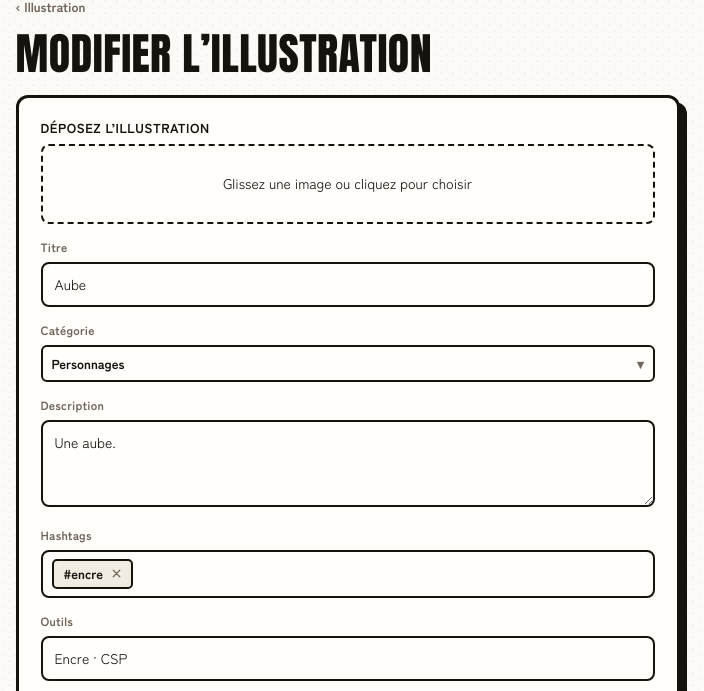
Test: ModifierIllustrationClient (CS-13 FE-3) › blocks an empty title with an inline error and no request
Step 1. Clear the field labelled "Titre" → (348, 284), box 40,262 -> 654,306
(page scrolled)
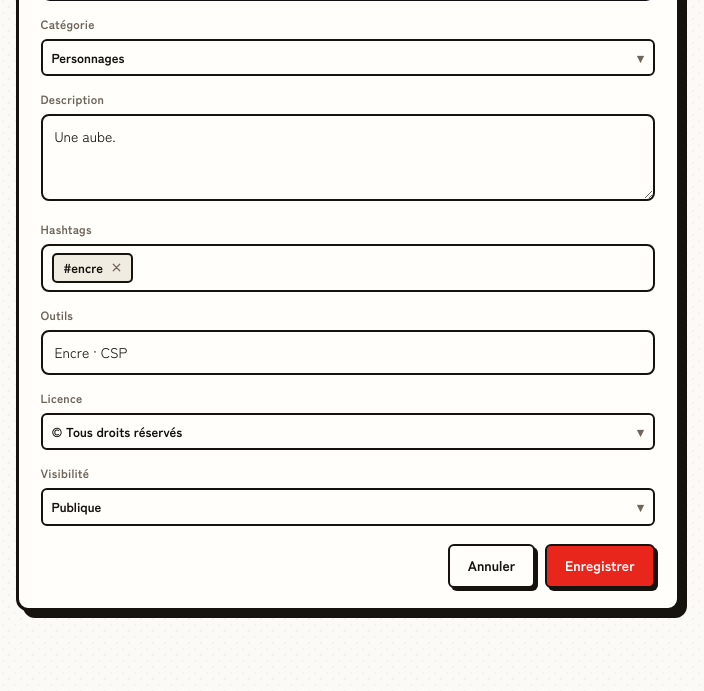
Step 2. Click the button "Enregistrer" → (600, 566), box 545,544 -> 654,588
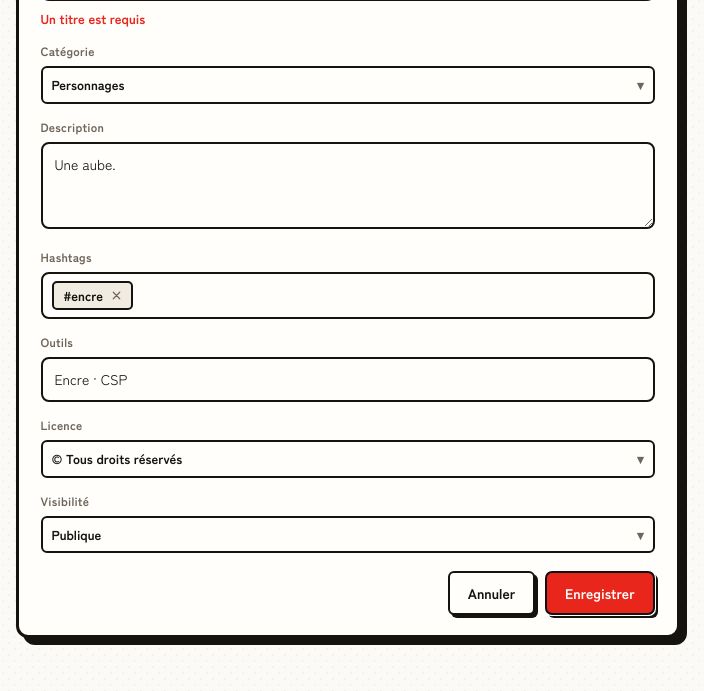
Result: the text "Un titre est requis" is shown at 40,8 -> 145,28
